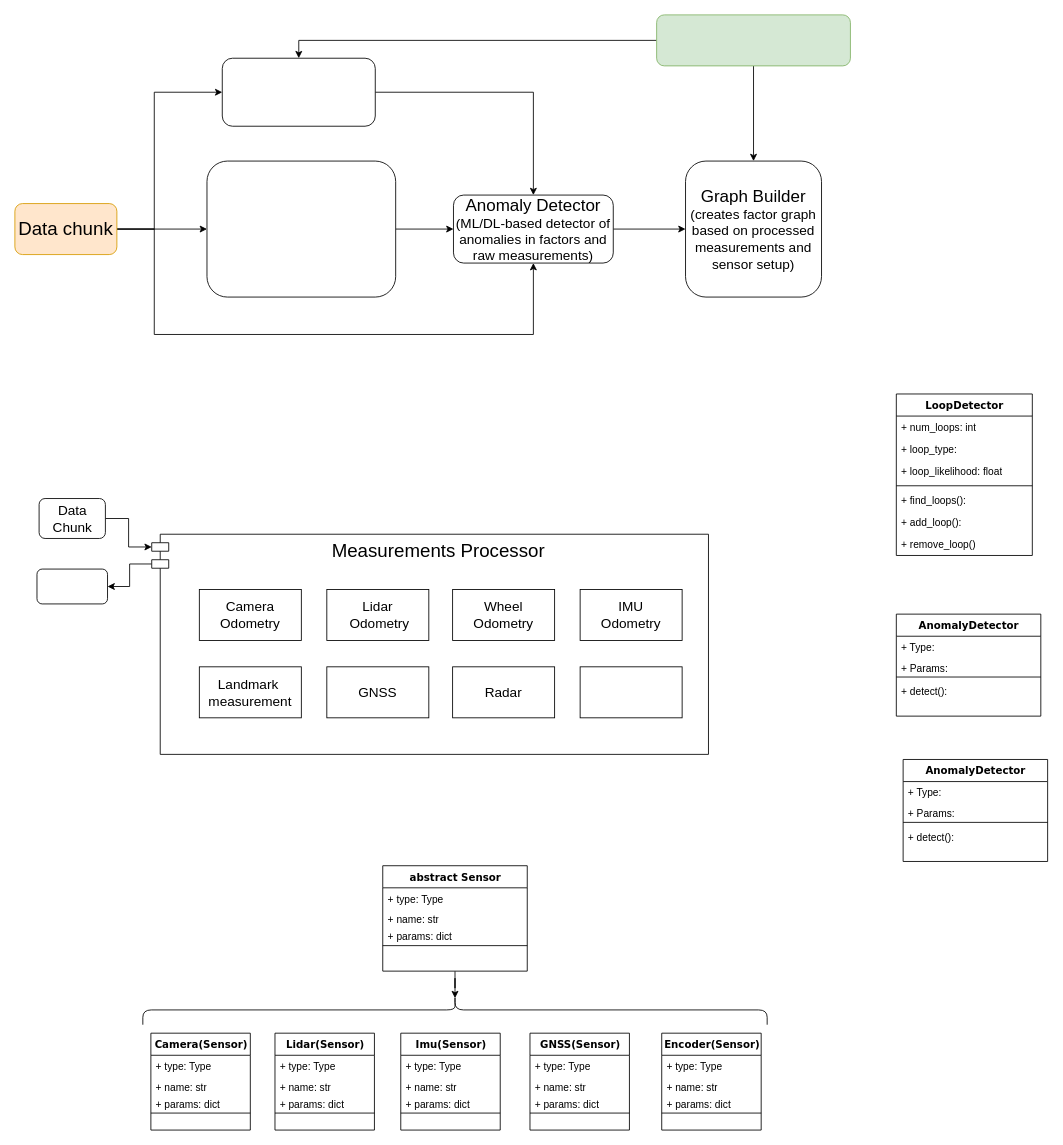
This 1063x1145 diagram has some shape labels left out. The shapes that lost their labels are listed below. From the top down, each one's centre as x and y in pixels, then its label:
At [753,40]: "Backend (sends updated graph".
At [298,91]: "Loop Detector (Tracks loops based on geometry/symantics)".
At [301,228]: "Measurements Processor (process raw measurement chunks and creates factors)".
At [72,586]: "Factors".
